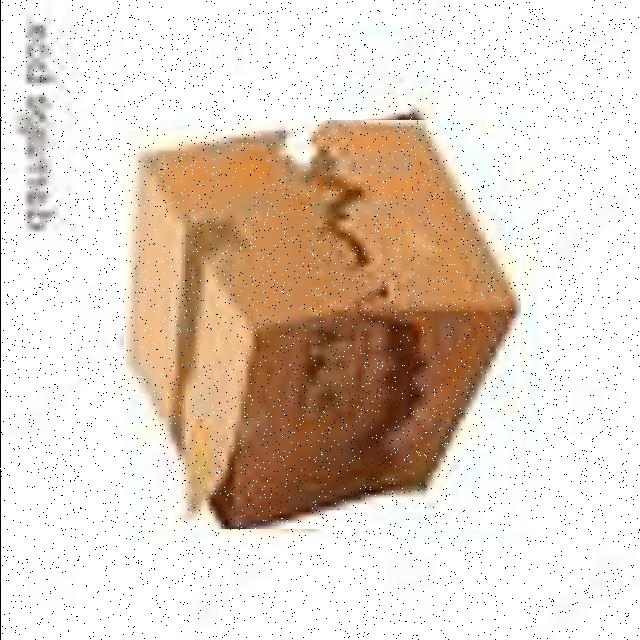defect: (123, 120, 520, 529)
